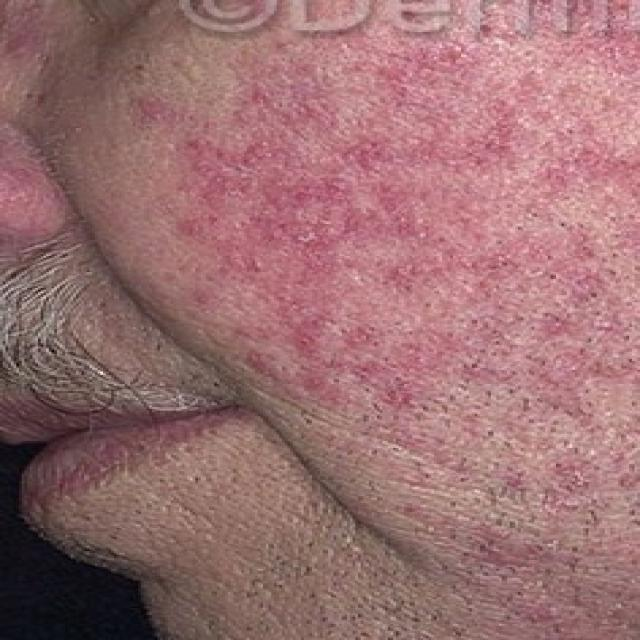Rosacea: (170, 81, 614, 338)
